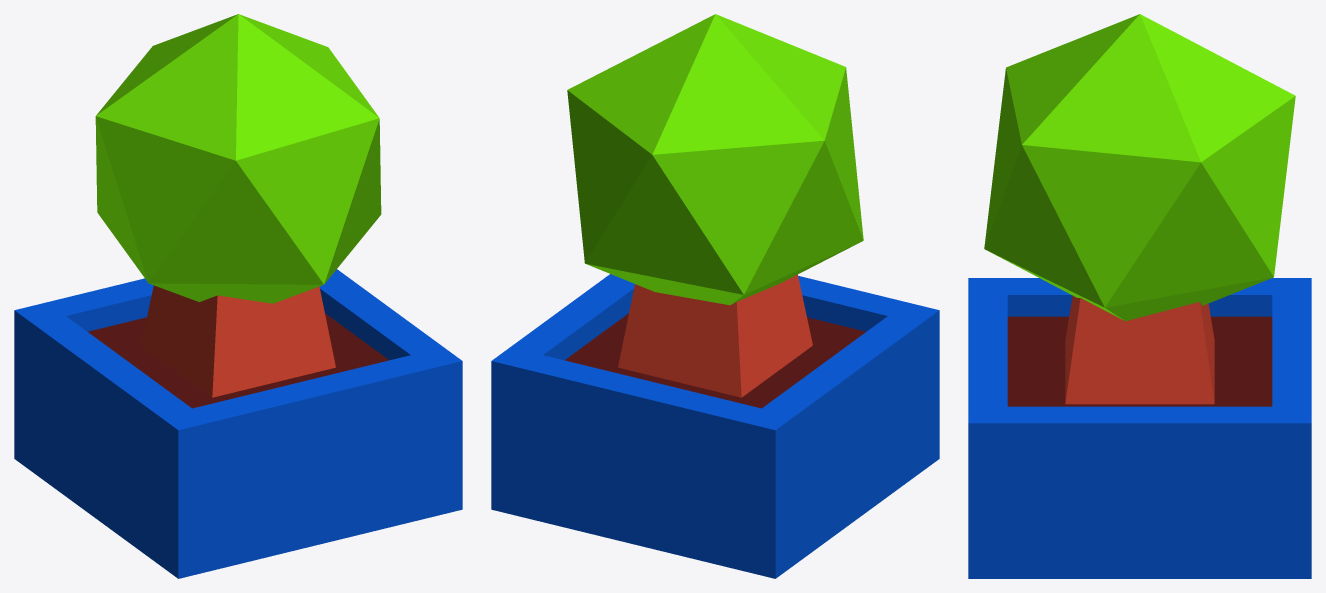
Rendered from Plant.fbx.
3 renders of one model, left to right at view 1: azimuth 30°, elevation 25°; view 2: azimuth 150°, elevation 25°; view 3: azimuth 270°, elevation 25°, orthographic. The views are drawn at different scales.
Parts seen in each view (by area): view 1: Cube, Cube.001; view 2: Cube, Cube.001; view 3: Cube.001, Cube.
Part boxes in pixels (<box>): Cube: <box>14,269,462,578</box>; Cube.001: <box>95,14,381,397</box>; Cube: <box>491,274,939,578</box>; Cube.001: <box>567,14,863,397</box>; Cube.001: <box>984,14,1295,404</box>; Cube: <box>968,278,1311,578</box>.
Bounding box in the file's own units: 59.58 × 94.22 × 59.58.
